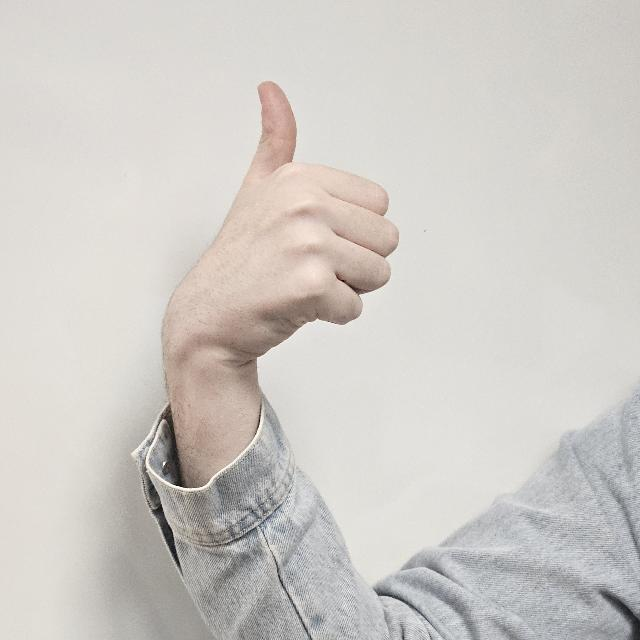Start: (228, 67, 398, 346)
